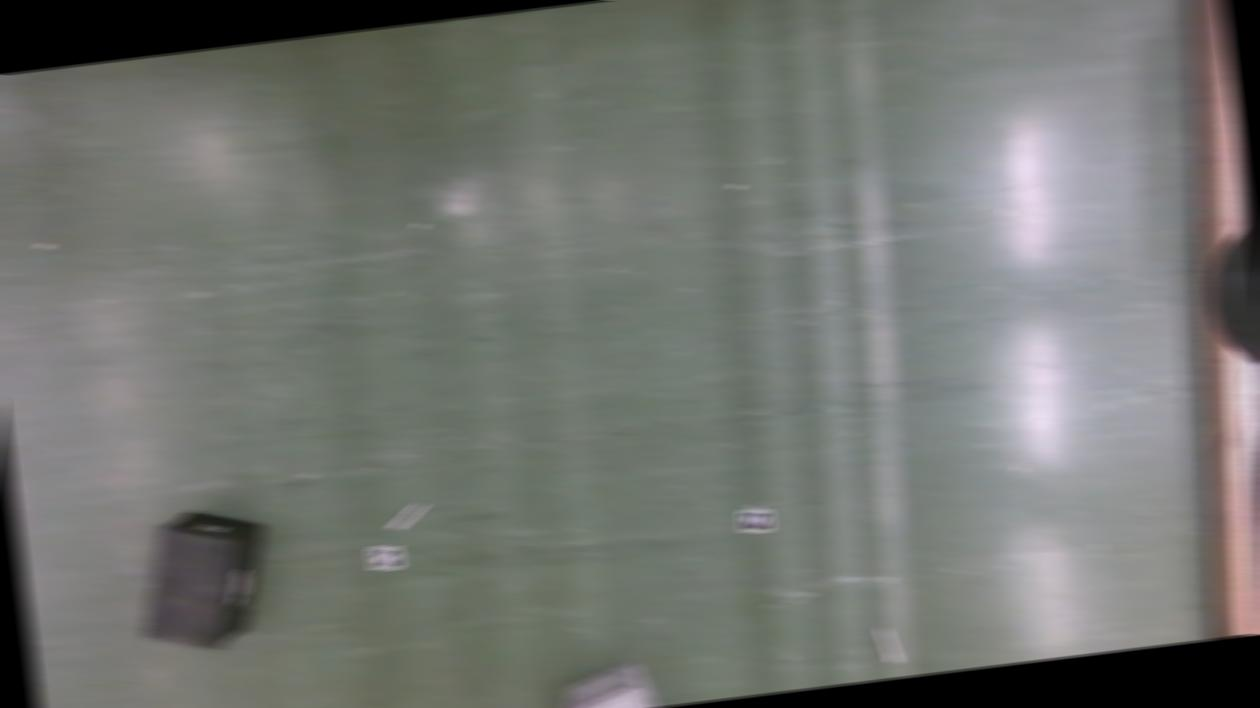probes: (390, 501, 428, 529), (878, 624, 901, 662)
rako: (128, 500, 278, 656), (554, 665, 658, 708)
